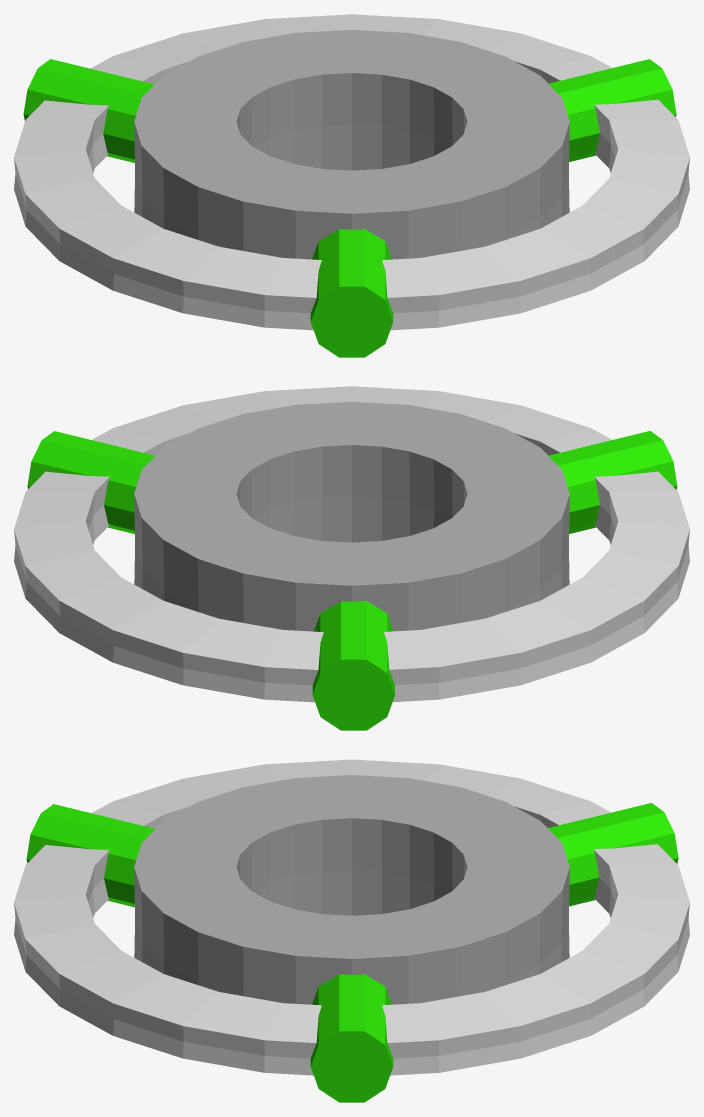
File: goal.fbx
3 renders of one model, top to bottom at view 1: azimuth 30°, elevation 25°; view 2: azimuth 150°, elevation 25°; view 3: azimuth 270°, elevation 25°, orthographic.
Visible parts, largest first — view 1: Torus, Torus.001, Cylinder.002, Cylinder.001, Cylinder; view 2: Torus, Torus.001, Cylinder.001, Cylinder.002, Cylinder; view 3: Torus, Torus.001, Cylinder, Cylinder.001, Cylinder.002.
Part boxes in pixels (x1=…): Torus: x1=134, y1=29, x2=569, y2=259; Torus.001: x1=14, y1=14, x2=689, y2=330; Cylinder.002: x1=310, y1=229, x2=393, y2=357; Cylinder.001: x1=23, y1=59, x2=154, y2=162; Cylinder: x1=549, y1=59, x2=676, y2=161; Torus: x1=134, y1=401, x2=569, y2=631; Torus.001: x1=14, y1=386, x2=689, y2=702; Cylinder.001: x1=312, y1=601, x2=394, y2=730; Cylinder.002: x1=549, y1=431, x2=677, y2=533; Cylinder: x1=27, y1=431, x2=154, y2=533; Torus: x1=134, y1=775, x2=569, y2=1004; Torus.001: x1=14, y1=759, x2=689, y2=1075; Cylinder: x1=310, y1=974, x2=393, y2=1102; Cylinder.001: x1=548, y1=803, x2=678, y2=906; Cylinder.002: x1=26, y1=804, x2=154, y2=907.
Bounding box in the file's own units: 418 × 69 × 410.
